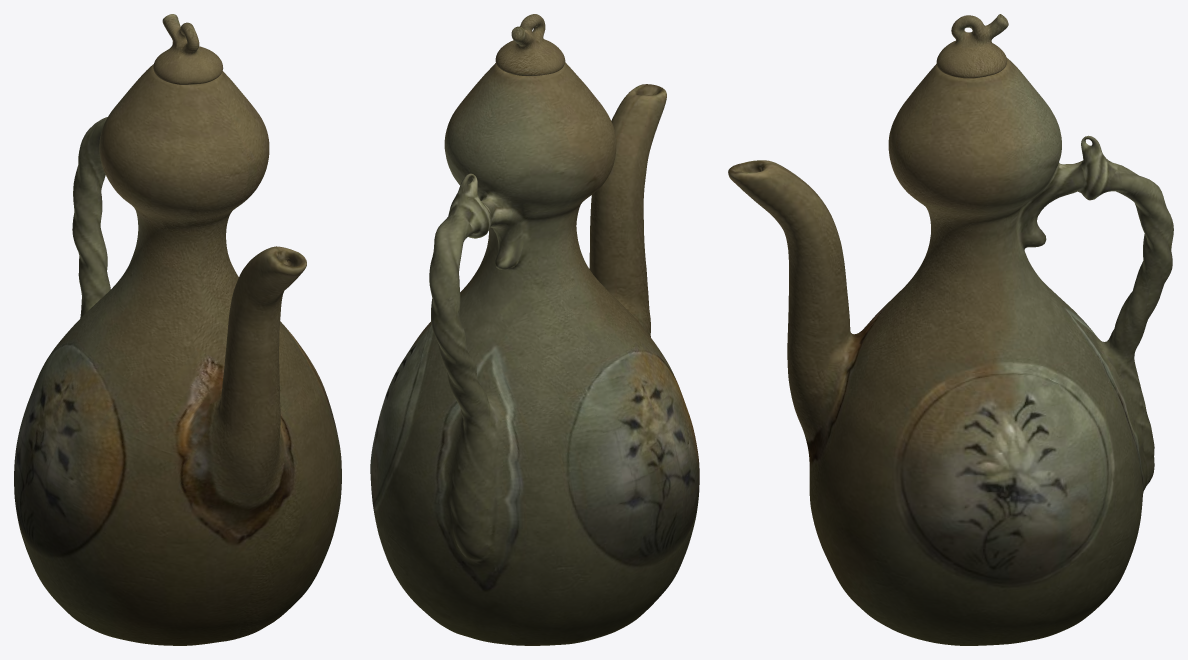
File: kettle.glb
3 renders of one model, left to right at view 1: azimuth 30°, elevation 25°; view 2: azimuth 150°, elevation 25°; view 3: azimuth 270°, elevation 25°, orthographic.
Parts seen in each view (by area): view 1: kettle, cap; view 2: kettle, cap; view 3: kettle, cap.
Part boxes in pixels (left/top/right/bottom): kettle: left=14, top=64, right=341, bottom=645; cap: left=153, top=14, right=223, bottom=84; kettle: left=370, top=62, right=699, bottom=645; cap: left=495, top=14, right=565, bottom=75; kettle: left=728, top=58, right=1173, bottom=645; cap: left=936, top=14, right=1008, bottom=78.
Bounding box in the file's own units: 0.1298 × 0.2518 × 0.1723.
Materials: 1 (1 with a texture image).
